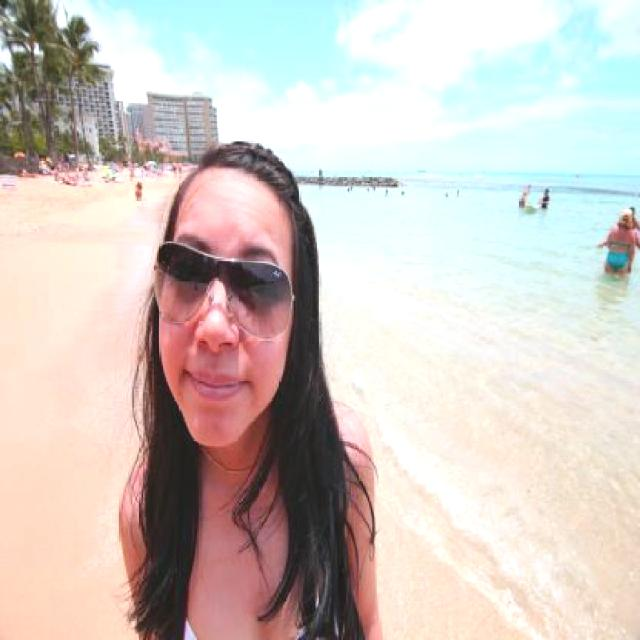face_nomask: (157, 242, 285, 415)
glasses: (145, 239, 286, 335)
head_nohelmet: (174, 136, 303, 207)
person: (114, 129, 398, 640)
